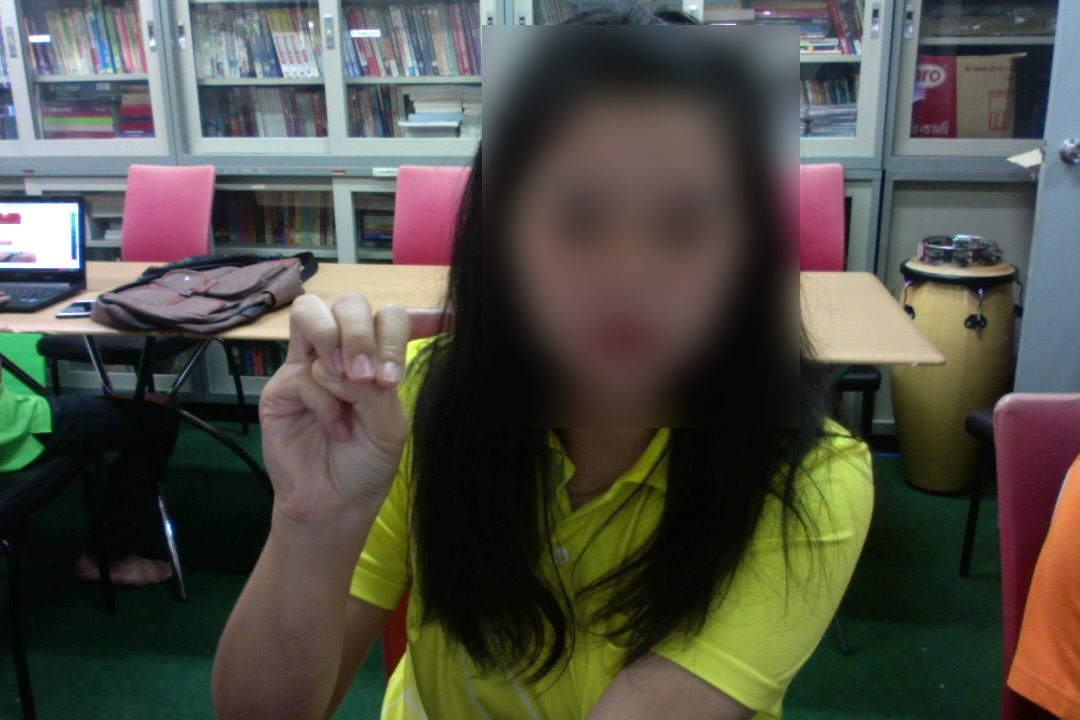mor: (257, 290, 413, 531)
